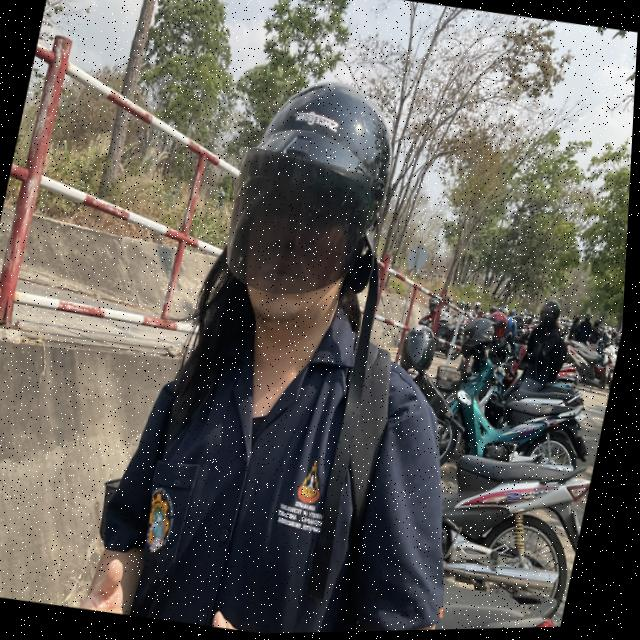illegal_helmet: (168, 63, 434, 514)
